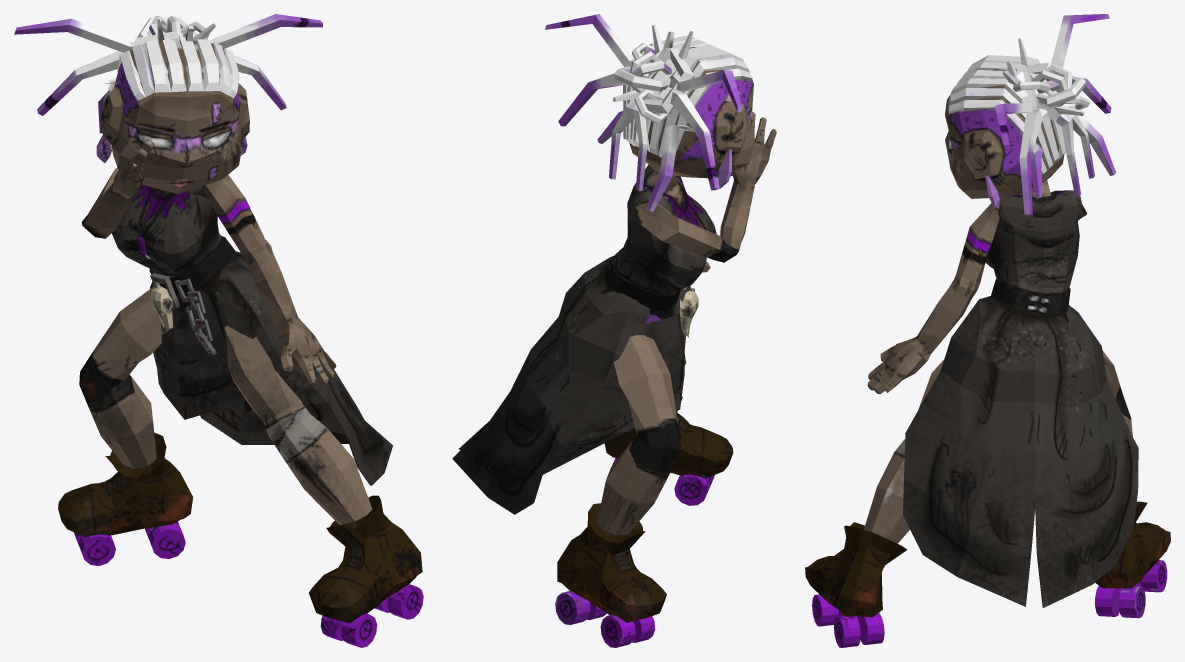
Rendered from bruja_000055.obj.
The picture shows the model from 3 angles, left to right: view 1: azimuth 30°, elevation 25°; view 2: azimuth 150°, elevation 25°; view 3: azimuth 270°, elevation 25°; orthographic projection. The views are drawn at different scales.
Parts seen in each view (by area): view 1: Bruja_Plane.001; view 2: Bruja_Plane.001; view 3: Bruja_Plane.001.
Part boxes in pixels (x1,y1,x2,y2): Bruja_Plane.001: (14, 14, 423, 647); Bruja_Plane.001: (452, 14, 776, 647); Bruja_Plane.001: (805, 14, 1170, 647).
Size of the model in its own units: 9.24 by 15.43 by 9.25.
